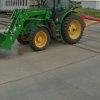Tractor: (9, 3, 91, 54)
